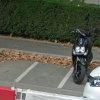Motorcycle: (64, 21, 97, 87)
